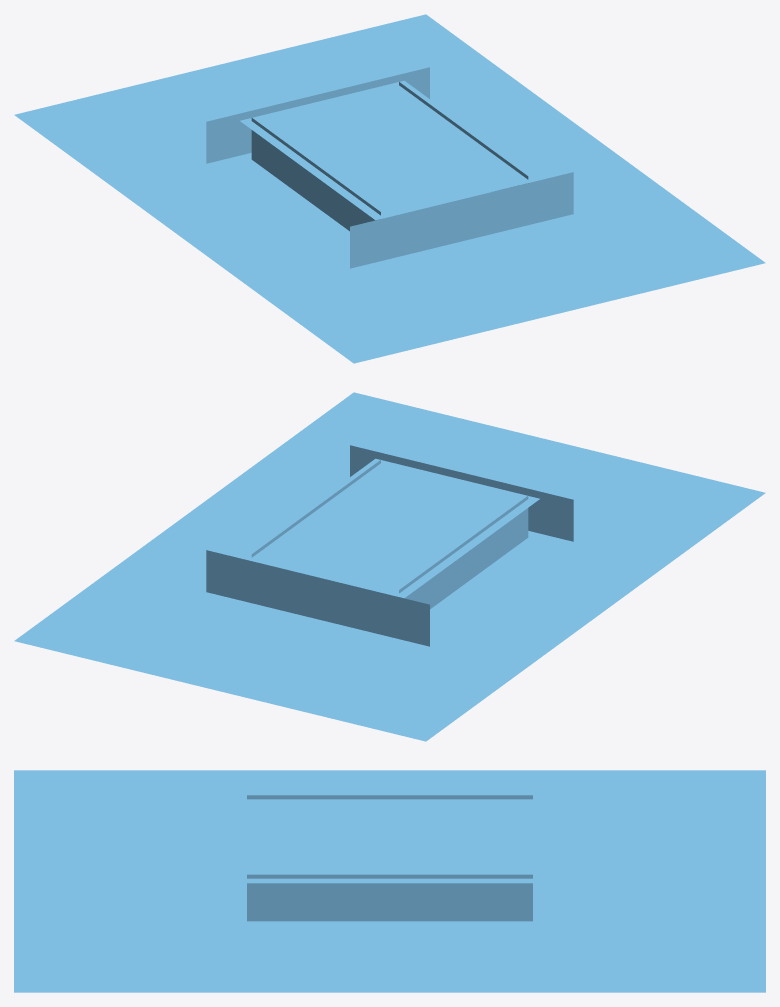
Rendered from ThrowbackStadium_Collision.glb.
The picture shows the model from 3 angles, top to bottom: view 1: azimuth 30°, elevation 25°; view 2: azimuth 150°, elevation 25°; view 3: azimuth 270°, elevation 25°; orthographic projection. The views are drawn at different scales.
Visible parts, largest first — view 1: Plane32768_25, Plane32768_8, Plane32768_3, Plane32768_34, Plane32768_9; view 2: Plane32768_25, Plane32768_8, Plane32768_9, Plane32768_34, Plane32768_3; view 3: Plane32768_25, Plane32768_8, Plane32768_35, Plane32768_34.
Part boxes in pixels (left/top/right/bottom): Plane32768_25: left=14, top=14, right=765, bottom=363; Plane32768_8: left=240, top=80, right=539, bottom=220; Plane32768_3: left=350, top=172, right=573, bottom=268; Plane32768_34: left=251, top=118, right=380, bottom=231; Plane32768_9: left=206, top=67, right=429, bottom=163; Plane32768_25: left=14, top=392, right=765, bottom=741; Plane32768_8: left=240, top=458, right=539, bottom=598; Plane32768_9: left=206, top=550, right=429, bottom=646; Plane32768_34: left=399, top=496, right=528, bottom=609; Plane32768_3: left=350, top=445, right=573, bottom=541; Plane32768_25: left=14, top=770, right=765, bottom=992; Plane32768_8: left=239, top=794, right=540, bottom=883; Plane32768_35: left=247, top=874, right=532, bottom=921; Plane32768_34: left=247, top=795, right=532, bottom=799.
Size of what is drawn, in the model's own units: 229 by 24.9 by 328.
